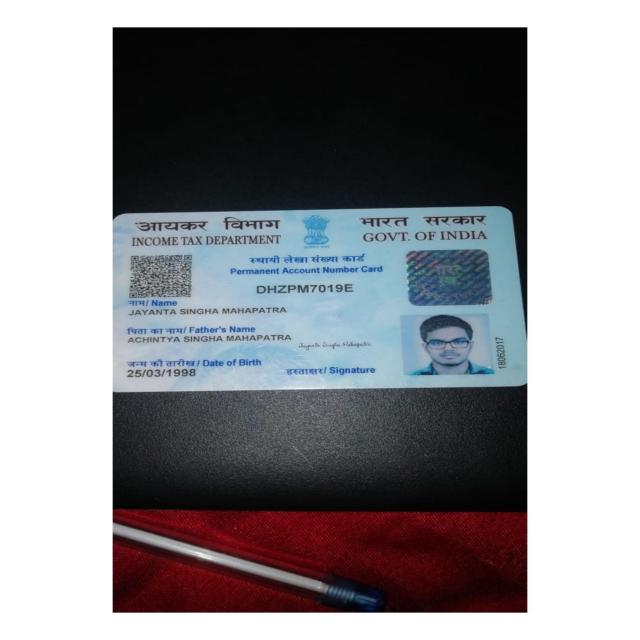pan_card: (114, 206, 529, 391)
